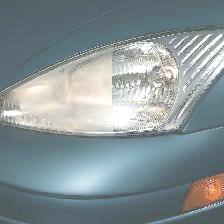head_lamp: (16, 53, 116, 137)
